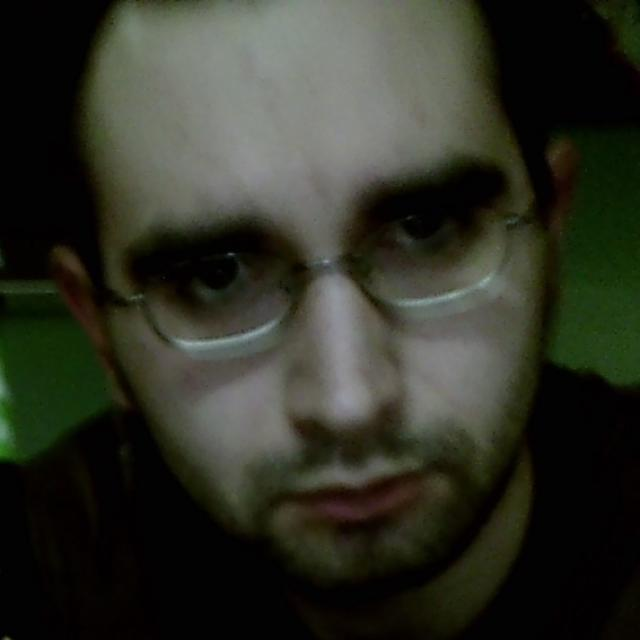Depress: (92, 0, 558, 603)
